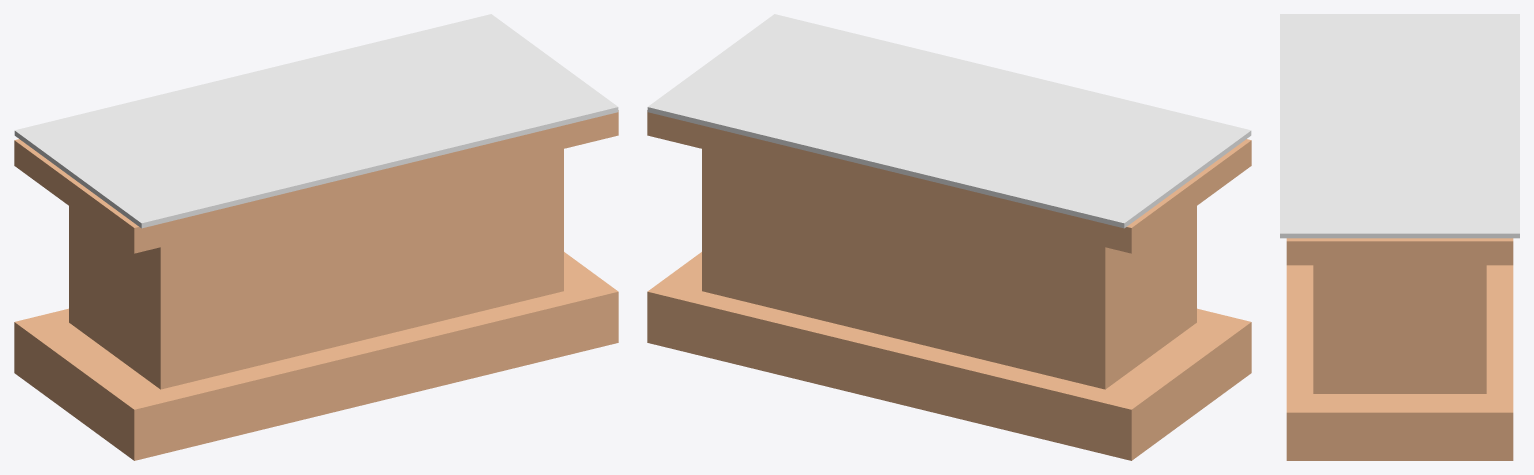
3 views of the same model, side by side, from view 1: azimuth 30°, elevation 25°; view 2: azimuth 150°, elevation 25°; view 3: azimuth 270°, elevation 25° (orthographic). The views are drawn at different scales.
Parts seen in each view (by area): view 1: Altar, Altar cloth, Base, Top; view 2: Altar, Altar cloth, Base, Top; view 3: Altar cloth, Base, Altar, Top.
Part boxes in pixels (box(x1,y1,x2,y2)): Altar: box(69, 149, 563, 389); Altar cloth: box(14, 14, 618, 228); Base: box(14, 252, 618, 460); Top: box(14, 110, 618, 253); Altar: box(702, 149, 1196, 389); Altar cloth: box(647, 14, 1251, 228); Base: box(647, 252, 1251, 460); Top: box(647, 110, 1251, 253); Altar cloth: box(1280, 14, 1519, 238); Base: box(1286, 265, 1513, 460); Altar: box(1313, 265, 1486, 393); Top: box(1286, 238, 1513, 265).
Bounding box in the file's own units: 1.98 × 0.935 × 0.9.
Materials: 1 (1 with a texture image).
